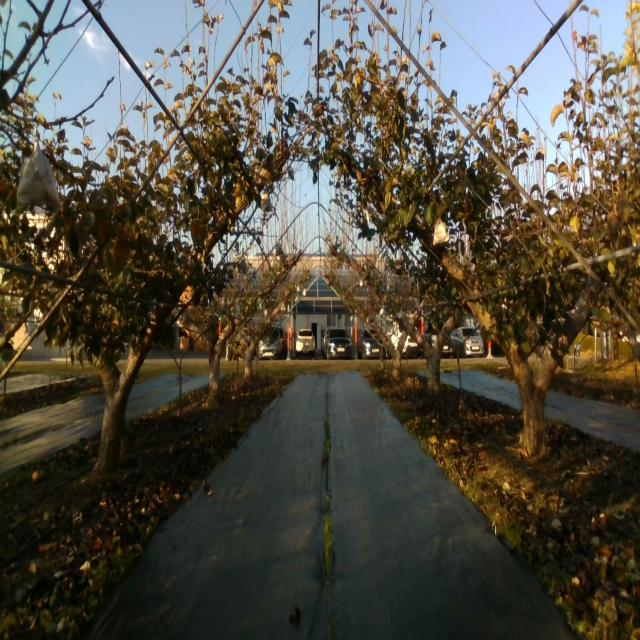pearbags: (16, 142, 62, 214), (432, 217, 450, 246), (260, 190, 272, 212)
